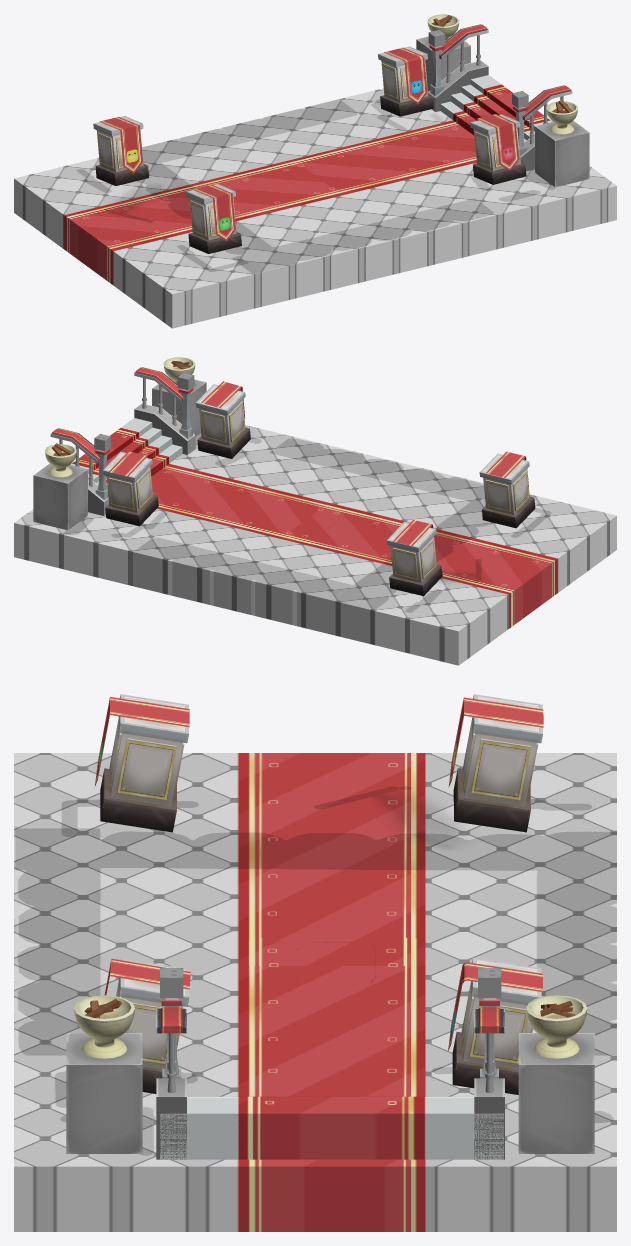
Rendered from S6_OutF_Field_004.fbx.
3 renders of one model, top to bottom at view 1: azimuth 30°, elevation 25°; view 2: azimuth 150°, elevation 25°; view 3: azimuth 270°, elevation 25°, orthographic. The views are drawn at different scales.
Visible parts, largest first — view 1: polySurface2, group303_pCube465, S6_OutF_Stair1_pCube463, S6_OutF_Firecup1_pCube466, S6_OutF_Firecup1_pCube467; view 2: polySurface2, group303_pCube465, S6_OutF_Stair1_pCube463, S6_OutF_Firecup1_pCube467, S6_OutF_Firecup1_pCube466; view 3: polySurface2, group303_pCube465, S6_OutF_Stair1_pCube463, S6_OutF_Firecup1_pCube467, S6_OutF_Firecup1_pCube466.
Part boxes in pixels (<box>): polySurface2: <box>14,88,616,328</box>; group303_pCube465: <box>93,46,526,253</box>; S6_OutF_Stair1_pCube463: <box>428,24,572,171</box>; S6_OutF_Firecup1_pCube466: <box>535,100,589,187</box>; S6_OutF_Firecup1_pCube467: <box>416,14,470,91</box>; polySurface2: <box>14,425,616,665</box>; group303_pCube465: <box>103,381,535,596</box>; S6_OutF_Stair1_pCube463: <box>50,367,195,515</box>; S6_OutF_Firecup1_pCube467: <box>33,443,87,530</box>; S6_OutF_Firecup1_pCube466: <box>152,357,206,436</box>; polySurface2: <box>14,753,616,1231</box>; group303_pCube465: <box>95,694,543,1094</box>; S6_OutF_Stair1_pCube463: <box>156,968,504,1159</box>; S6_OutF_Firecup1_pCube467: <box>518,995,594,1153</box>; S6_OutF_Firecup1_pCube466: <box>66,995,142,1153</box>.
Size of the model in its own units: 13.52 by 3.16 by 8.33.
